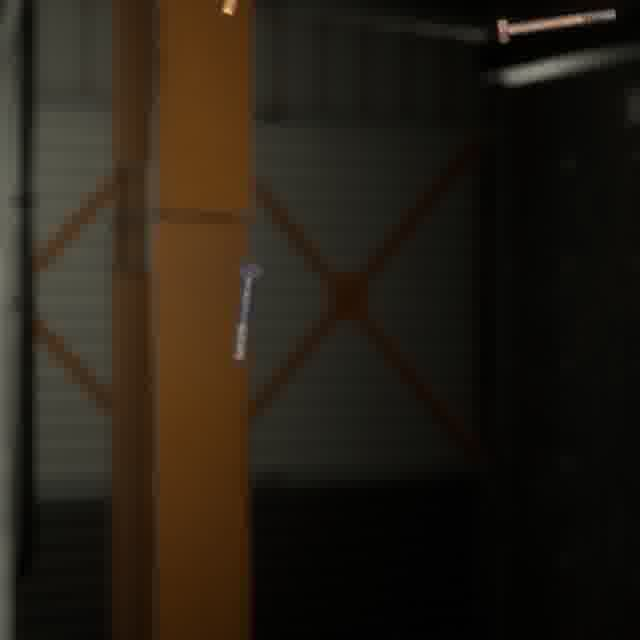bolt: (492, 4, 620, 48), (228, 257, 267, 365), (215, 0, 244, 25)
